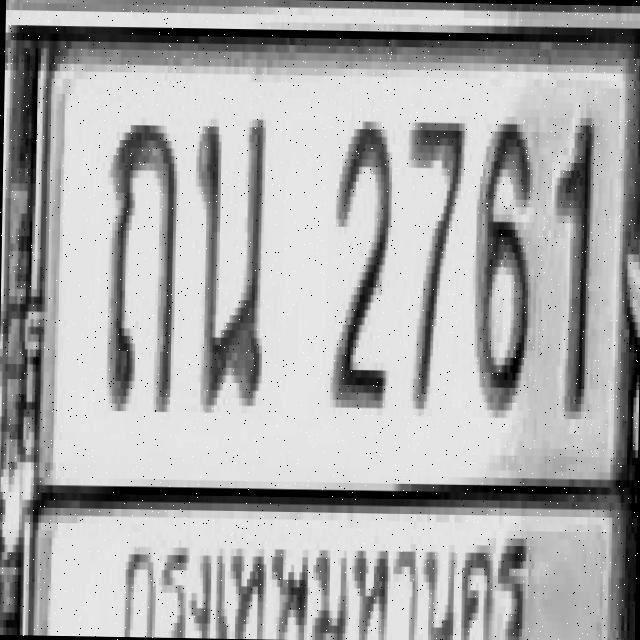1: (550, 114, 594, 408)
2: (328, 114, 391, 408)
31ThorThung: (104, 117, 178, 412)
34NorNu: (190, 111, 267, 413)
6: (472, 116, 532, 410)
7: (402, 115, 466, 409)
Bangkok: (113, 506, 533, 640)
